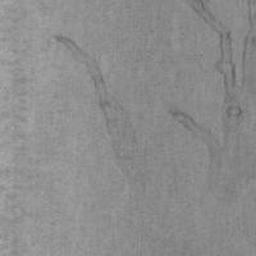Water spot: (169, 0, 256, 202), (54, 35, 154, 184)
